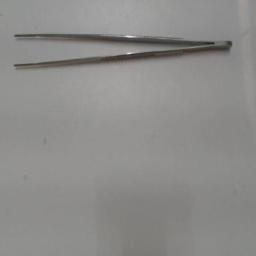DeBakey Dissector: (6, 23, 254, 77)
